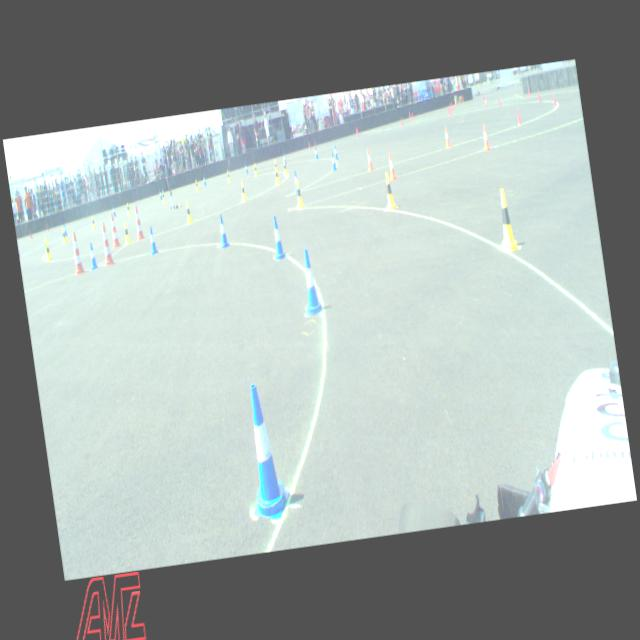blue_cone: (236, 382, 294, 522), (299, 248, 322, 313), (270, 215, 286, 260), (218, 214, 230, 248), (147, 226, 158, 254), (88, 242, 98, 270), (293, 171, 300, 192), (331, 152, 336, 170), (334, 144, 338, 160), (244, 162, 248, 174), (314, 147, 318, 159), (203, 174, 207, 186), (64, 224, 68, 236), (112, 205, 116, 216), (282, 153, 286, 164), (160, 189, 162, 200)
large_orange_cone: (69, 230, 86, 275), (99, 222, 115, 266), (132, 205, 144, 241), (108, 212, 120, 248)
orange_cone: (387, 152, 397, 180), (481, 124, 490, 150), (366, 148, 374, 172), (443, 126, 451, 148)
yellow_cone: (494, 188, 518, 252), (383, 172, 396, 210), (294, 180, 304, 208), (122, 222, 130, 244), (185, 202, 192, 223), (240, 182, 247, 202), (274, 167, 280, 185), (45, 242, 51, 260), (282, 160, 288, 176), (61, 228, 66, 243), (273, 159, 278, 173), (44, 238, 48, 255), (126, 202, 131, 215), (91, 216, 96, 229), (254, 163, 258, 176), (195, 180, 199, 192), (162, 190, 166, 202), (227, 170, 230, 182)
